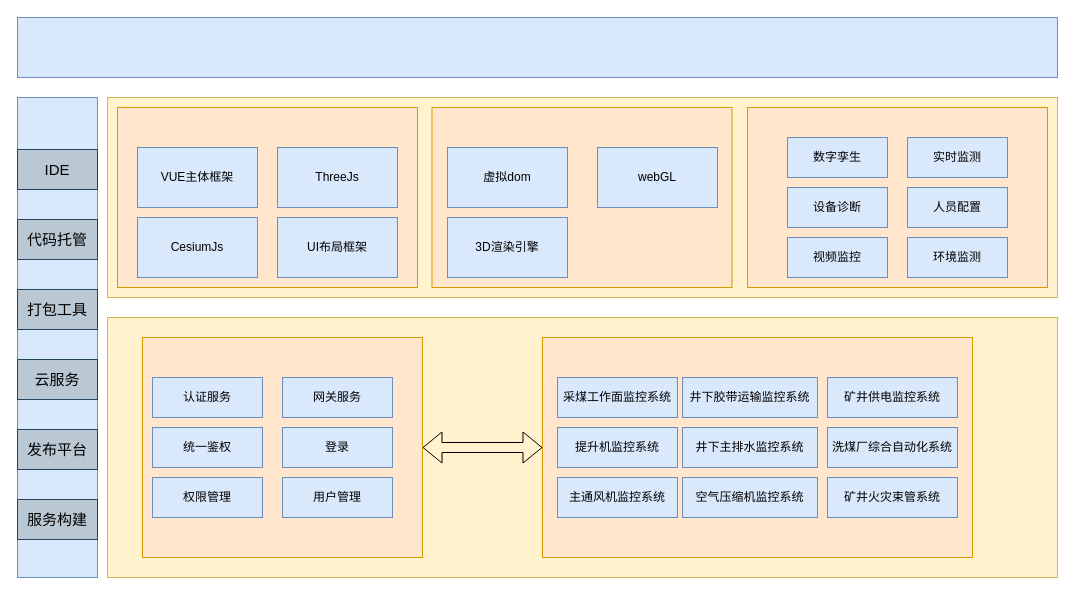
Image size: 1075x595. Some labels were removed from this diagram. Each missing label, with the box of its shape:
APP PC端 大屏端 小程序: (16, 16, 1058, 78)
WEB渲染: (431, 106, 732, 288)
业务服务: (542, 336, 972, 558)
前端框架: (116, 106, 418, 288)
基础服务: (142, 336, 422, 558)
核心功能: (746, 106, 1048, 288)
研发支撑: (16, 96, 98, 578)
